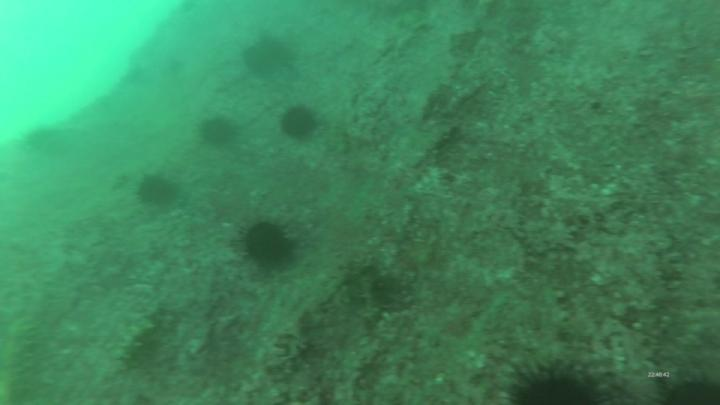echinus: (500, 359, 623, 405), (237, 216, 302, 278), (645, 371, 720, 405), (133, 172, 182, 213), (278, 104, 324, 144), (194, 115, 240, 154), (241, 43, 285, 81)
holothurian: (112, 312, 163, 380), (1, 313, 38, 405)
scallop: (23, 123, 62, 153)
